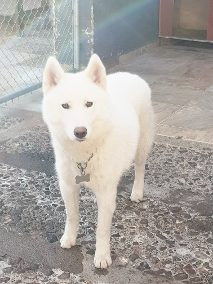husky: (30, 43, 133, 184)
